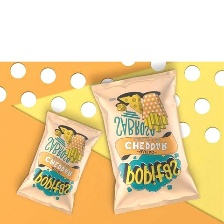snack: (84, 64, 204, 221), (9, 107, 106, 219)
